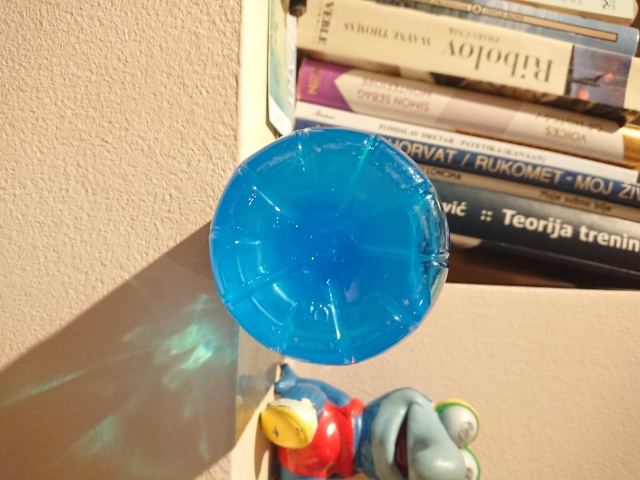Vindi Iso Sport Forest Strawberries 500mL: (205, 122, 453, 367)
